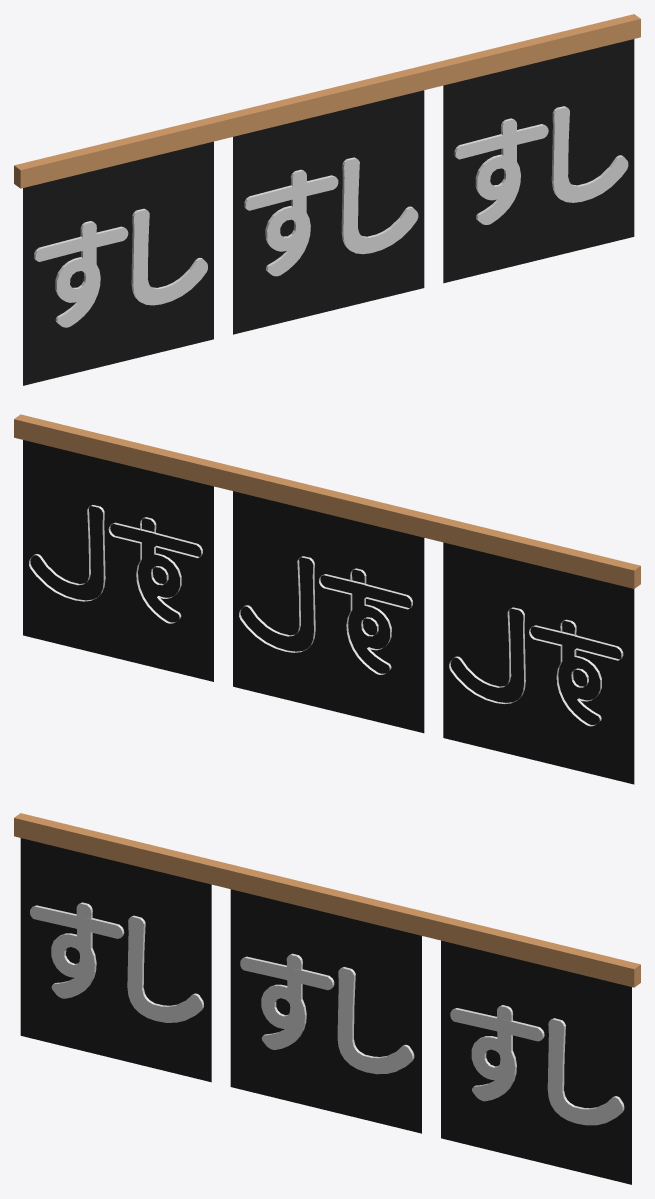
File: Decoration Sign.glb
The picture shows the model from 3 angles, top to bottom: view 1: azimuth 30°, elevation 25°; view 2: azimuth 150°, elevation 25°; view 3: azimuth 330°, elevation 25°; orthographic projection.
Parts seen in each view (by area): view 1: Decoration_Sign; view 2: Decoration_Sign; view 3: Decoration_Sign.
Boxes of the visible parts, left/top/right/bottom form: Decoration_Sign: left=14, top=14, right=640, bottom=385; Decoration_Sign: left=14, top=414, right=640, bottom=784; Decoration_Sign: left=14, top=813, right=640, bottom=1184.
Size of the model in its own units: 4.34 by 1.46 by 0.0802.
Materials: 1 (1 with a texture image).
